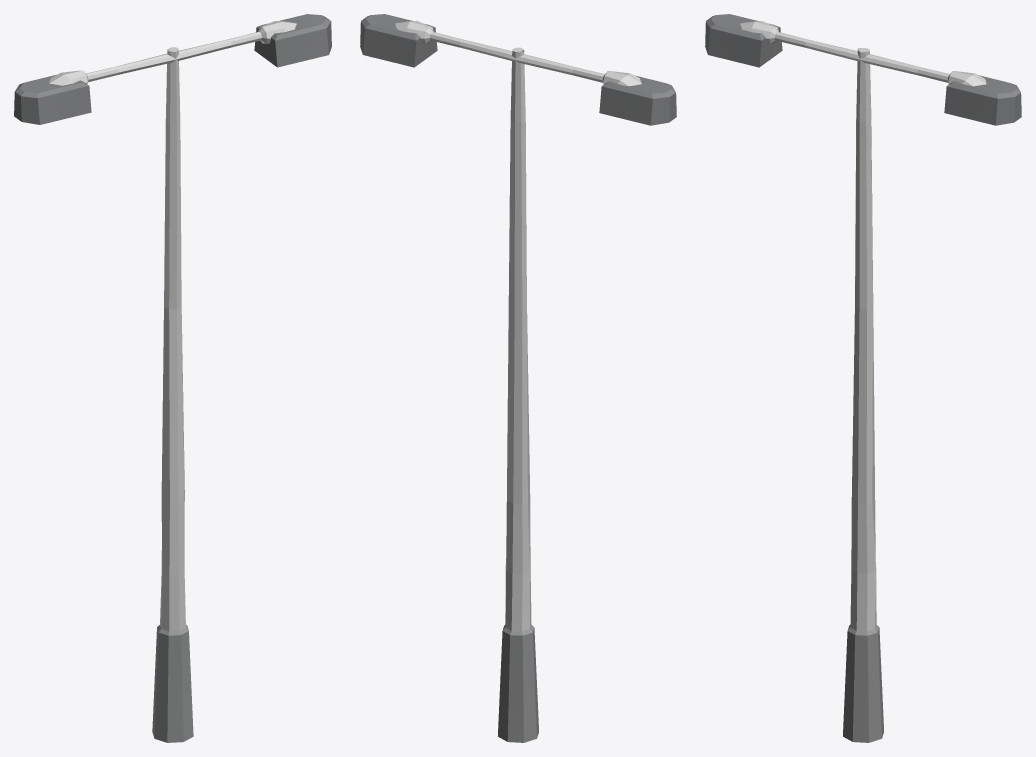
File: lamp_2.glb
The picture shows the model from 3 angles, left to right: view 1: azimuth 30°, elevation 25°; view 2: azimuth 150°, elevation 25°; view 3: azimuth 330°, elevation 25°; orthographic projection.
Parts seen in each view (by area): view 1: lamp_2; view 2: lamp_2; view 3: lamp_2.
Part boxes in pixels (x1,y1,x2,y2): lamp_2: (14, 14, 331, 742); lamp_2: (360, 14, 676, 742); lamp_2: (705, 14, 1021, 742).
Size of the model in its own units: 2.98 by 6.3 by 0.3947.
Materials: 1 (1 with a texture image).
